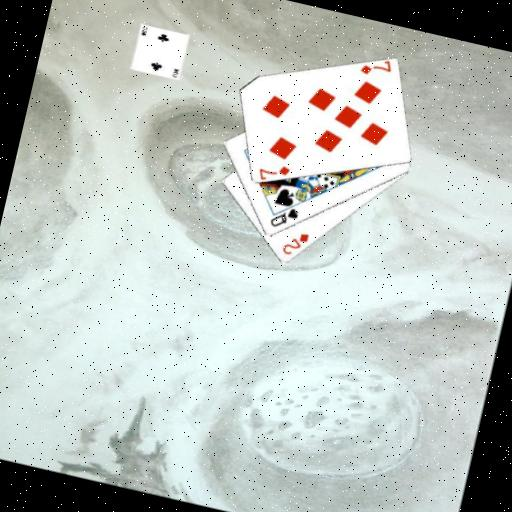2D: (278, 227, 311, 261)
7D: (255, 158, 293, 187), (357, 53, 395, 82)
QS: (266, 201, 302, 234)
